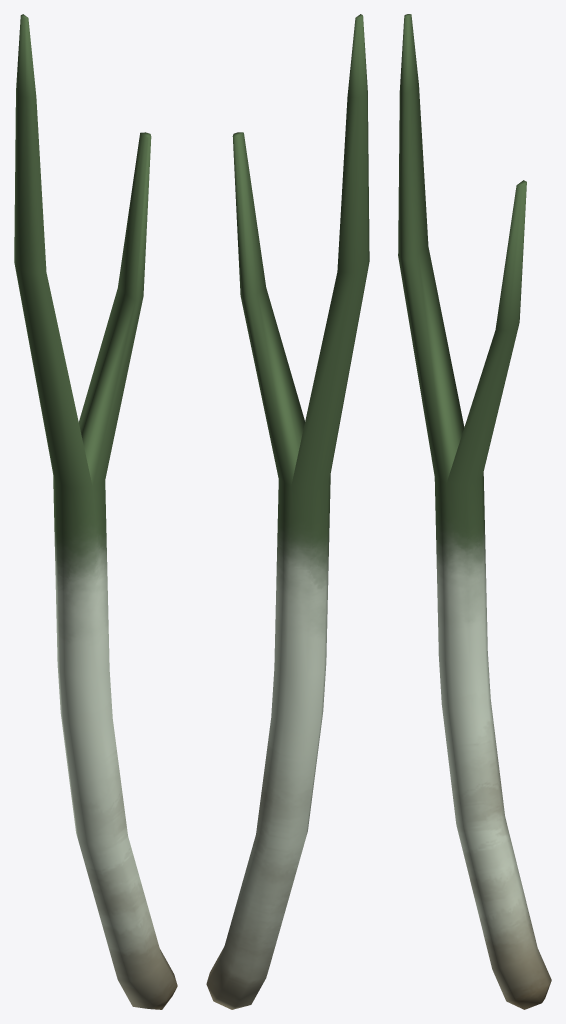
The model's file is leek.fbx.
3 renders of one model, left to right at view 1: azimuth 30°, elevation 25°; view 2: azimuth 150°, elevation 25°; view 3: azimuth 330°, elevation 25°, orthographic. The views are drawn at different scales.
Visible parts, largest first — view 1: leek; view 2: leek; view 3: leek.
Boxes of the visible parts, left/top/right/bottom form: leek: left=14, top=14, right=177, bottom=1009; leek: left=206, top=14, right=369, bottom=1009; leek: left=398, top=14, right=551, bottom=1009.
Size of the model in its own units: 5.52 by 34.22 by 1.63.
1 material, 1 textured.
